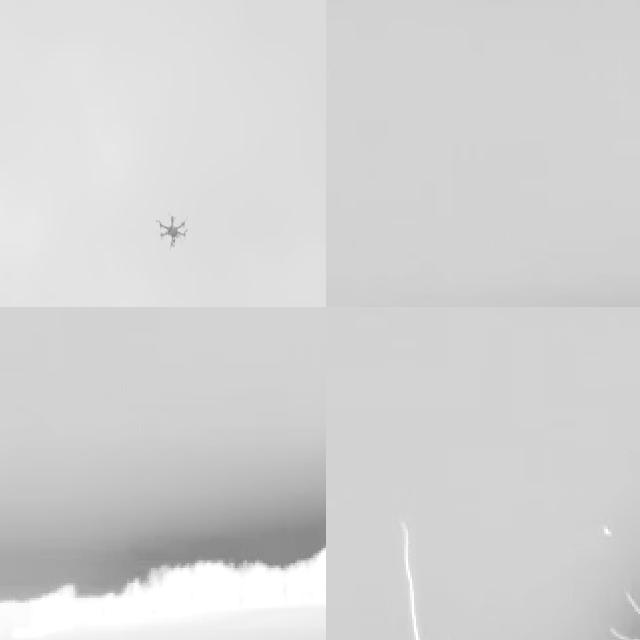0: (590, 518, 620, 550)
drone: (155, 207, 192, 258)
